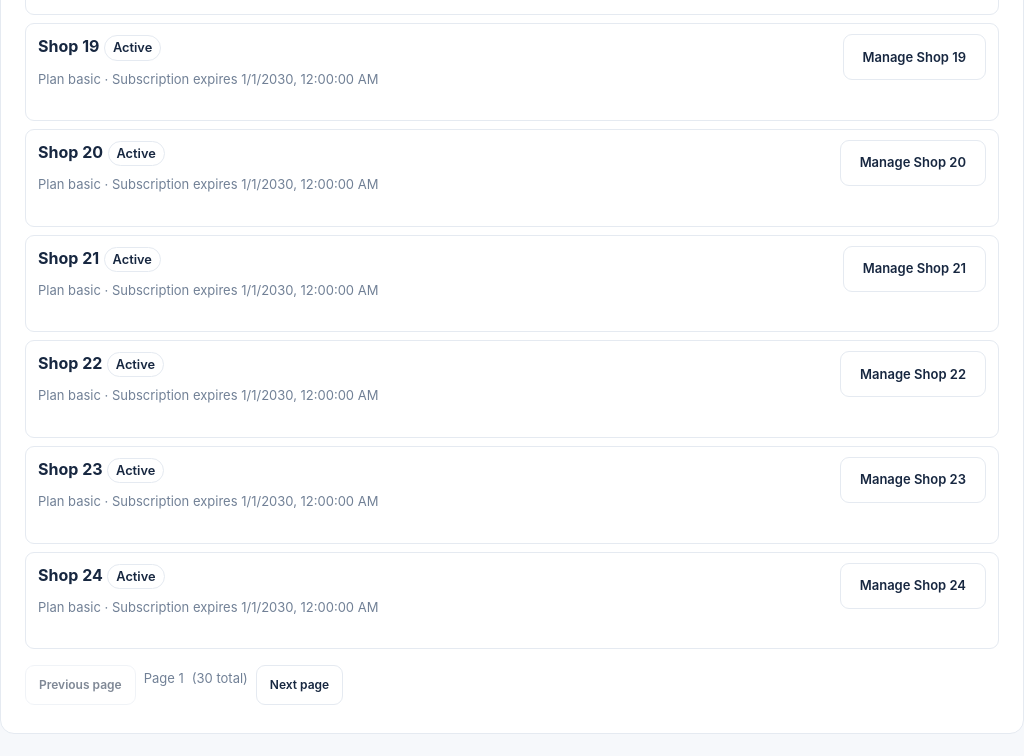
Test case: paginates with server offsets
(page scrolled)
Expected: the text "(30 total)" is shown, [192,669,248,689]
Click the button "Next page". click: (300, 685)
box: [256,665,343,705]
(page scrolled)
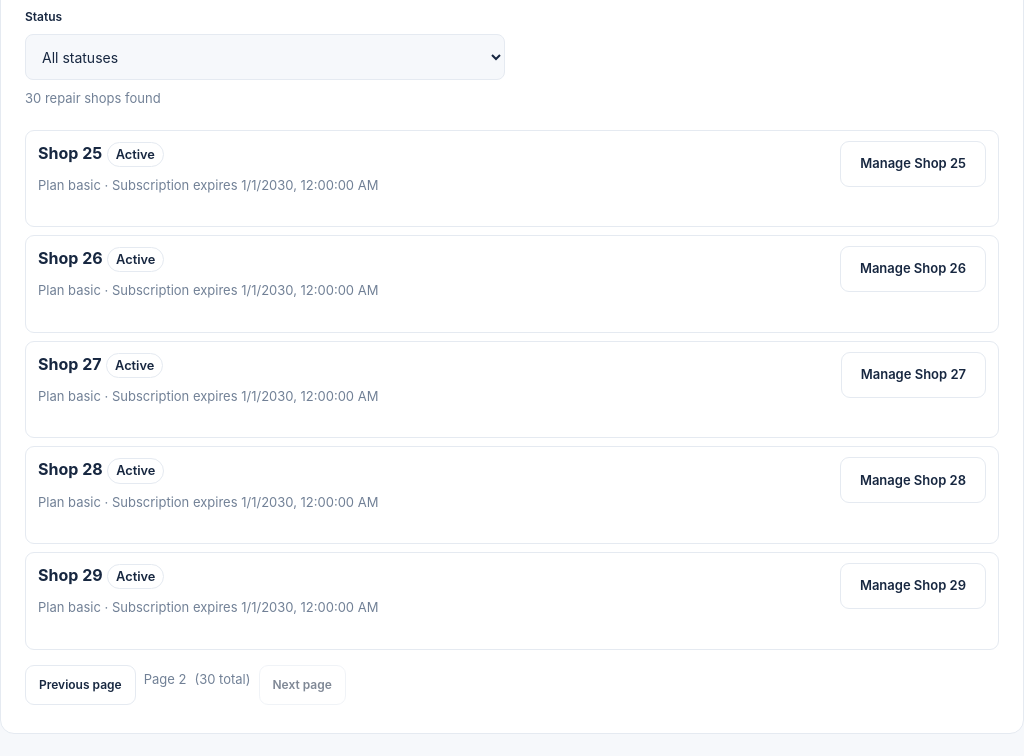
Now the text "Page 2" is shown, box [144,670,186,689]
Click the button "Previous page". click: (80, 685)
box: [25,665,136,705]
(page scrolled)
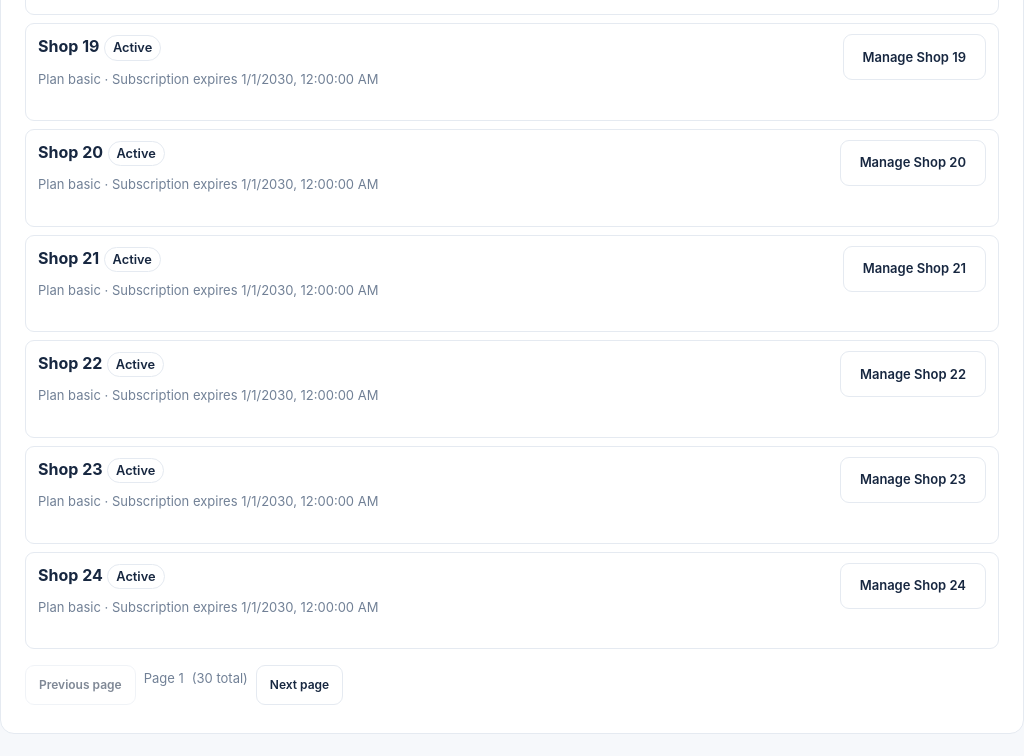
Now the text "Page 1" is shown, box [144,669,184,689]
